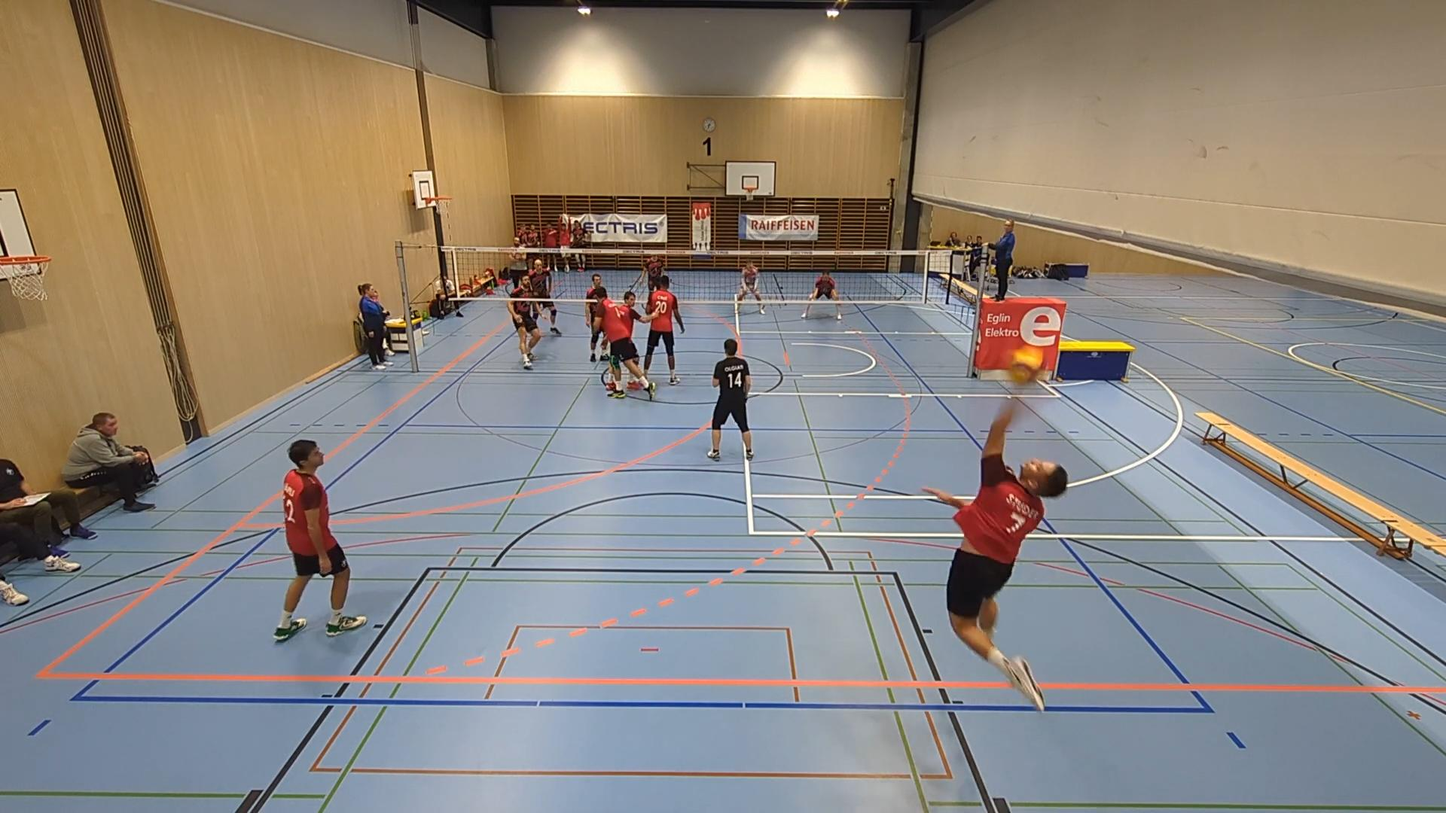battuta: (921, 384, 1070, 709)
